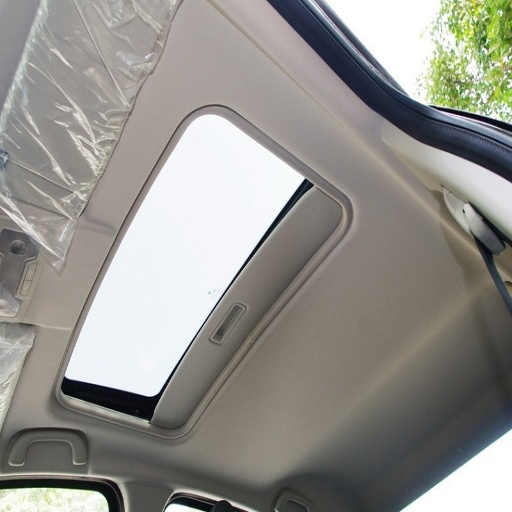back_bumper: (86, 358, 318, 501)
front_bumper: (31, 434, 286, 510), (437, 214, 478, 267)
tailgate: (2, 255, 82, 376)
